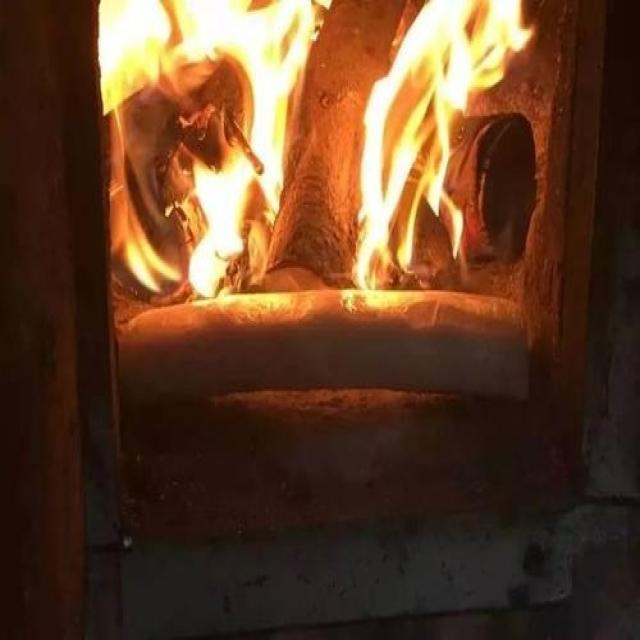Fire: (96, 1, 328, 298), (348, 2, 536, 290)
